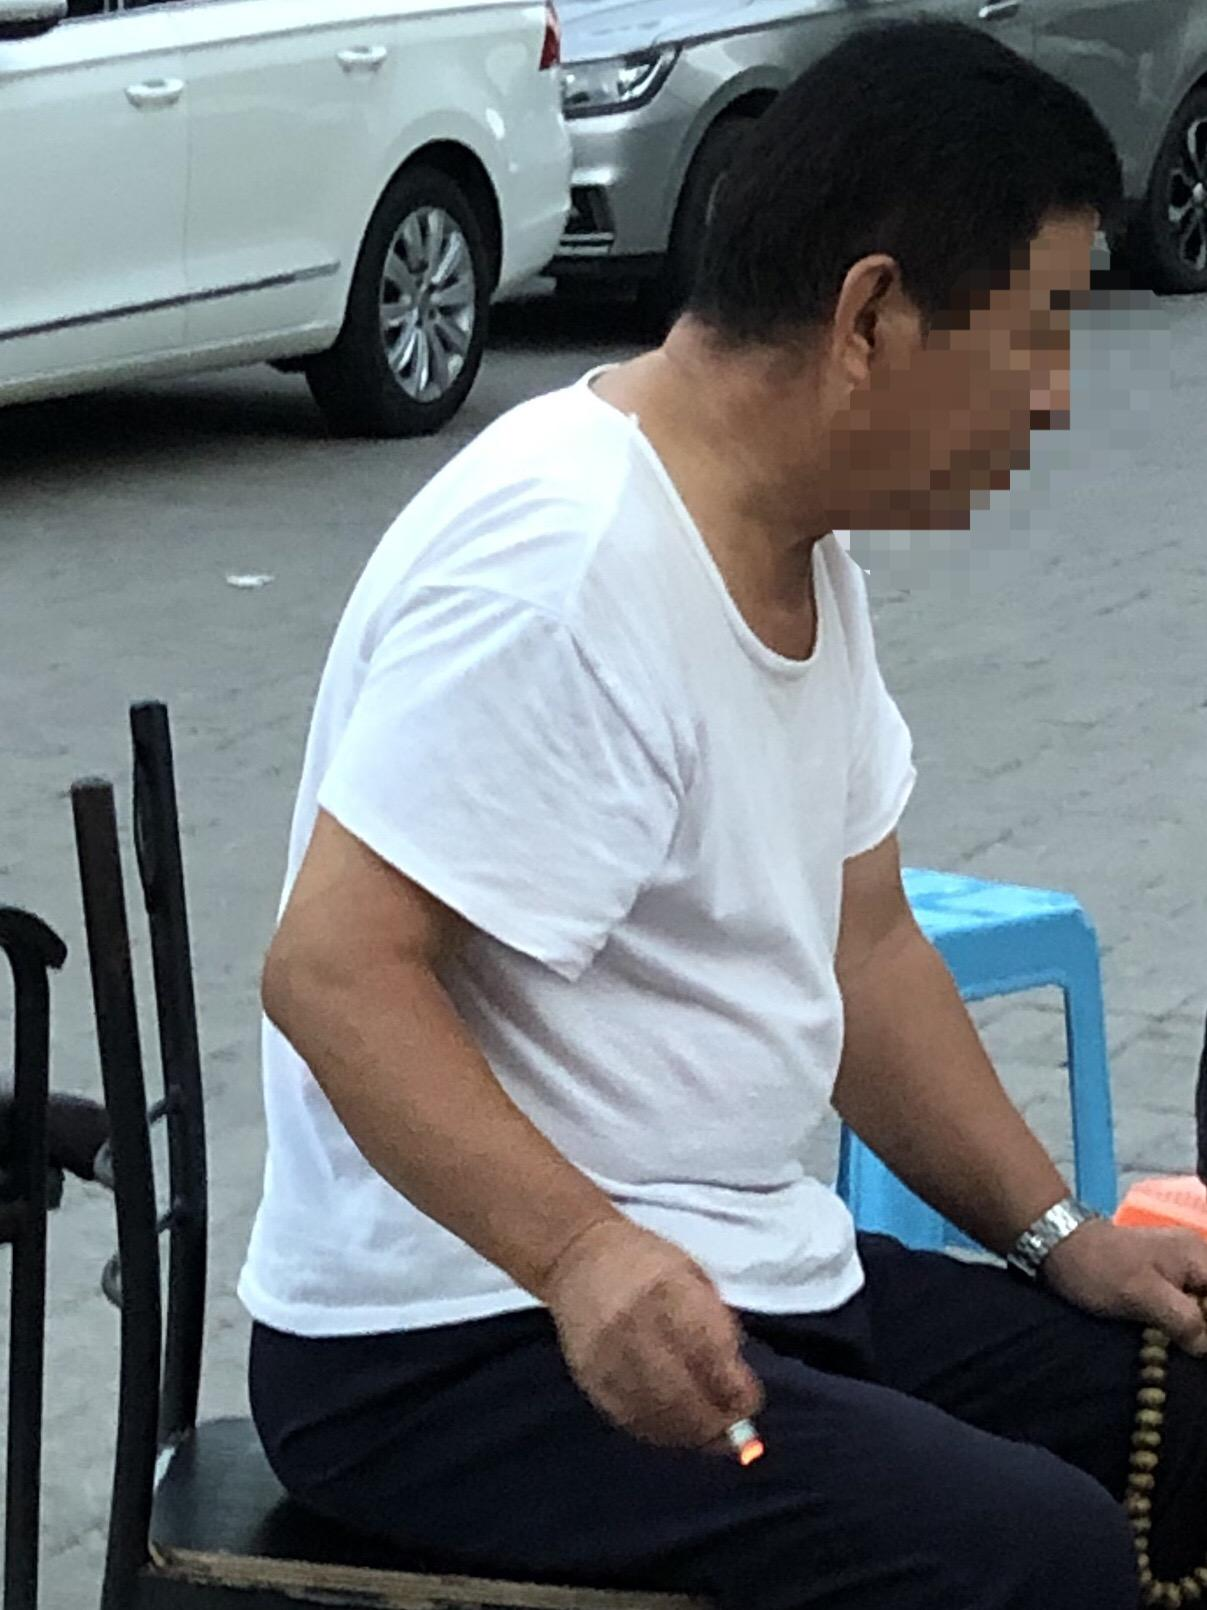smoke: (721, 1407, 768, 1471)
